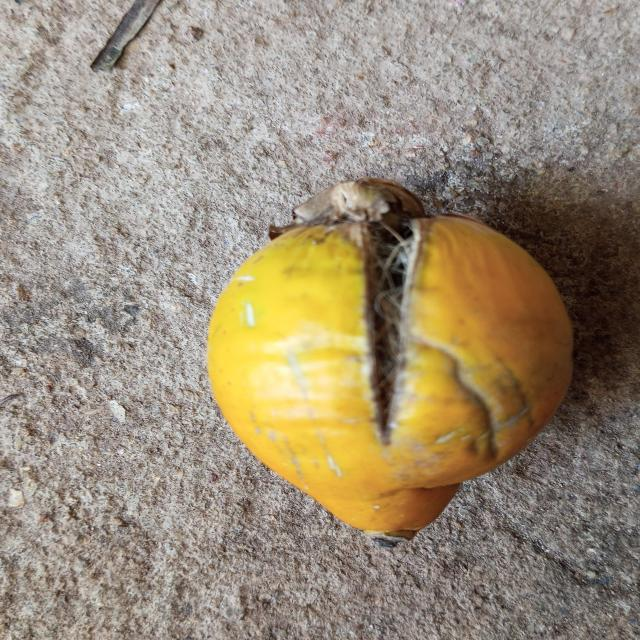damaged: (208, 178, 572, 544)
